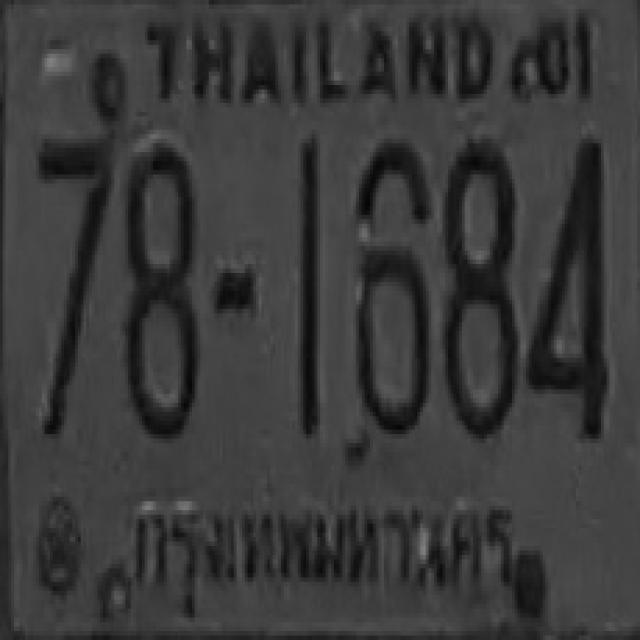1: (296, 139, 319, 434)
4: (526, 134, 607, 439)
6: (354, 139, 428, 434)
7: (36, 134, 111, 434)
8: (442, 136, 515, 436), (125, 141, 198, 436)
Bangkok: (121, 486, 518, 622)
